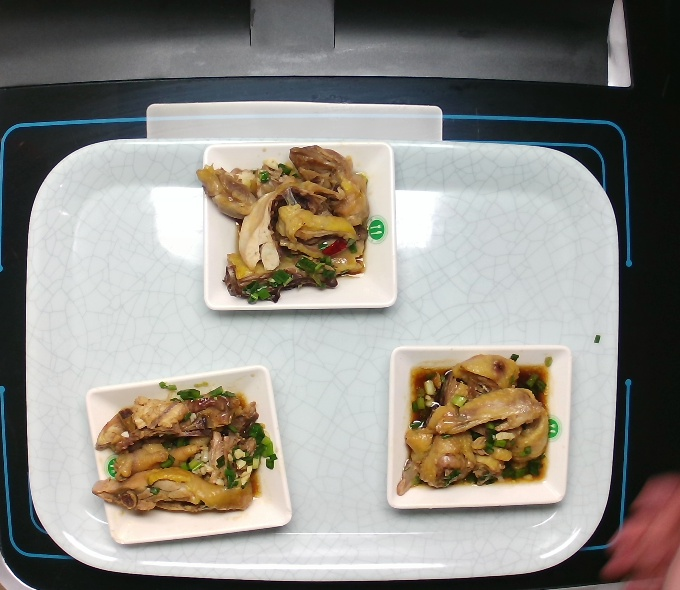wcq-CongYouJi: (194, 144, 371, 304), (91, 384, 276, 516), (393, 352, 554, 495)
